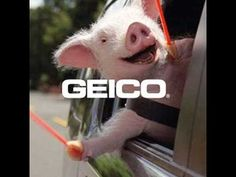geico: (61, 79, 172, 99)
